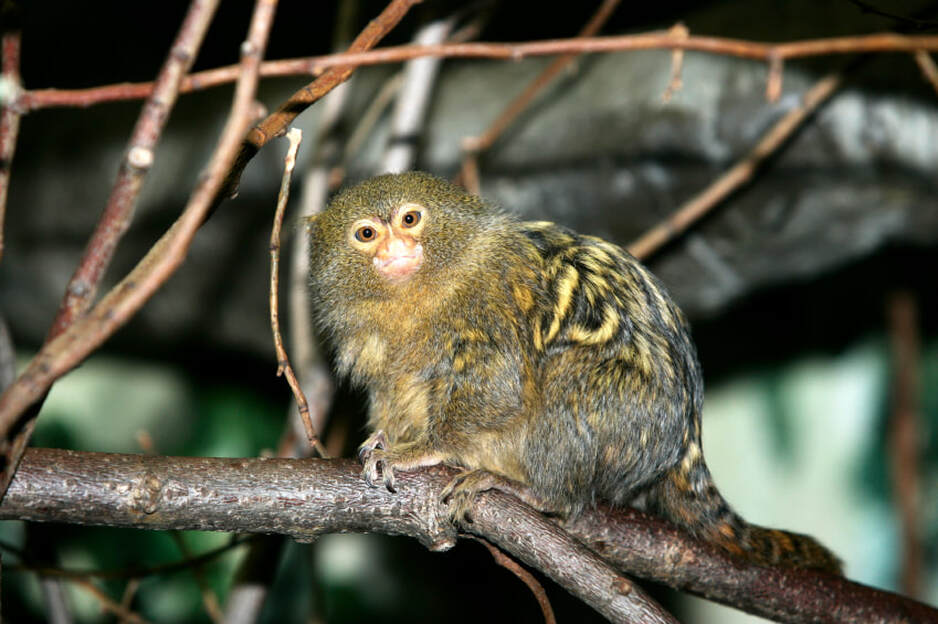PygmyMarmoset: (318, 175, 703, 497)
